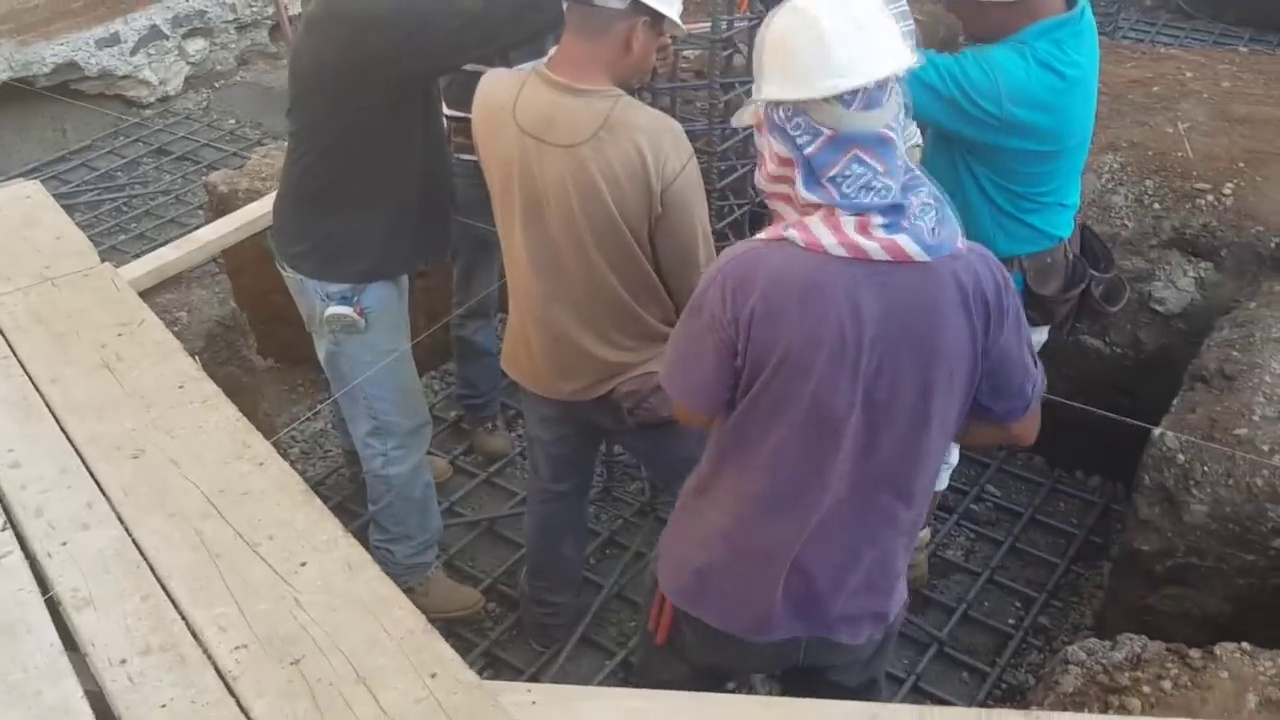helmet: (746, 0, 915, 101)
helmet-on: (731, 0, 925, 222)
person: (646, 0, 1042, 700), (471, 0, 724, 656), (266, 0, 486, 618), (908, 1, 1101, 332)
